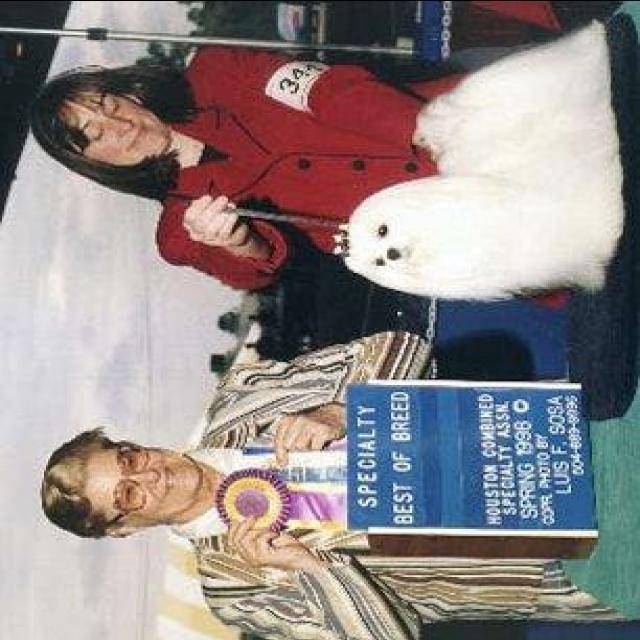maltese_dog: (339, 19, 623, 300)
